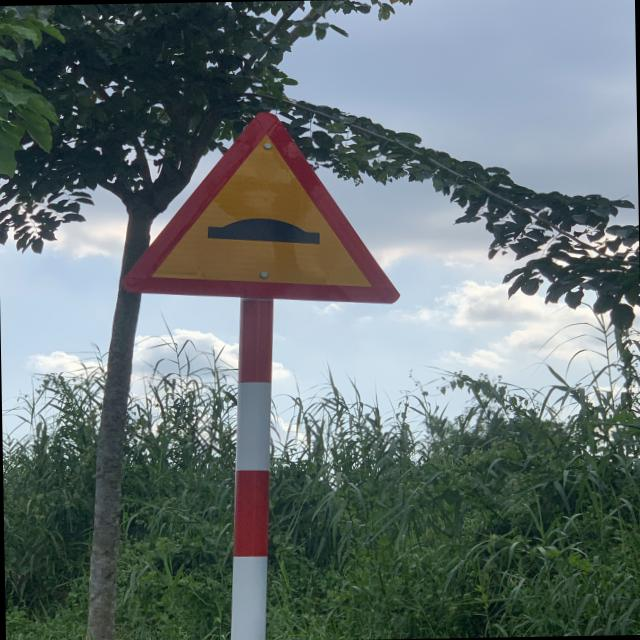Duong_Cong_Ben_Phai: (116, 108, 401, 308)
